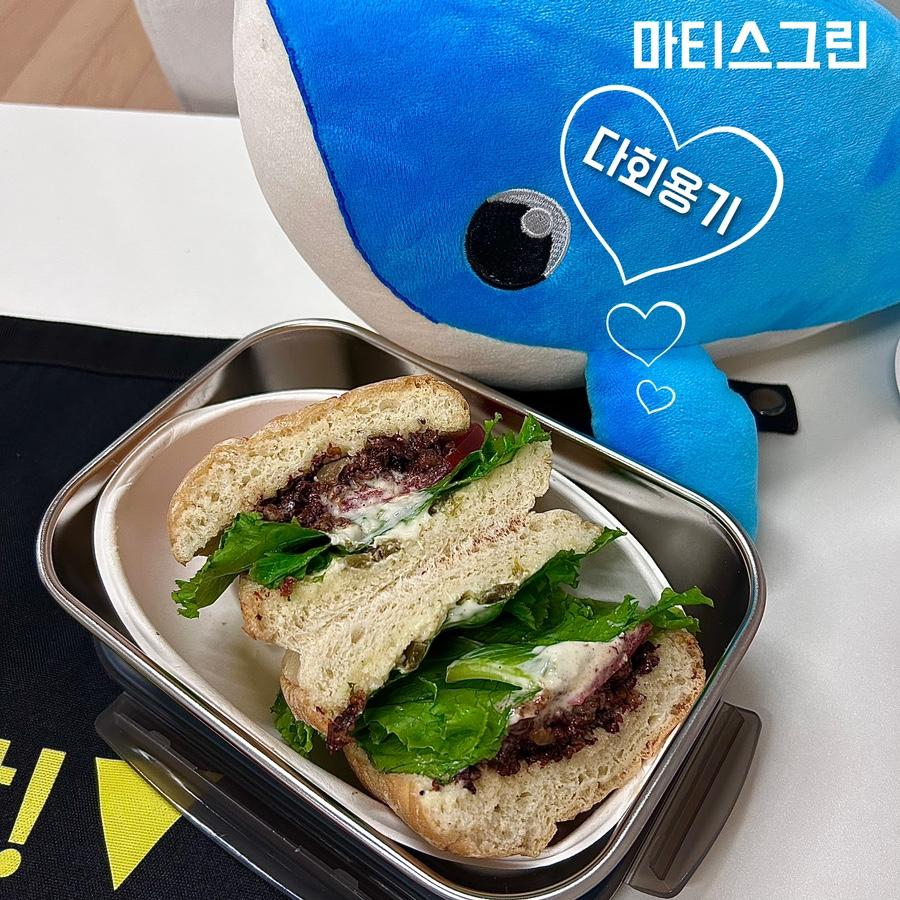Lunch Box: (38, 321, 764, 899)
